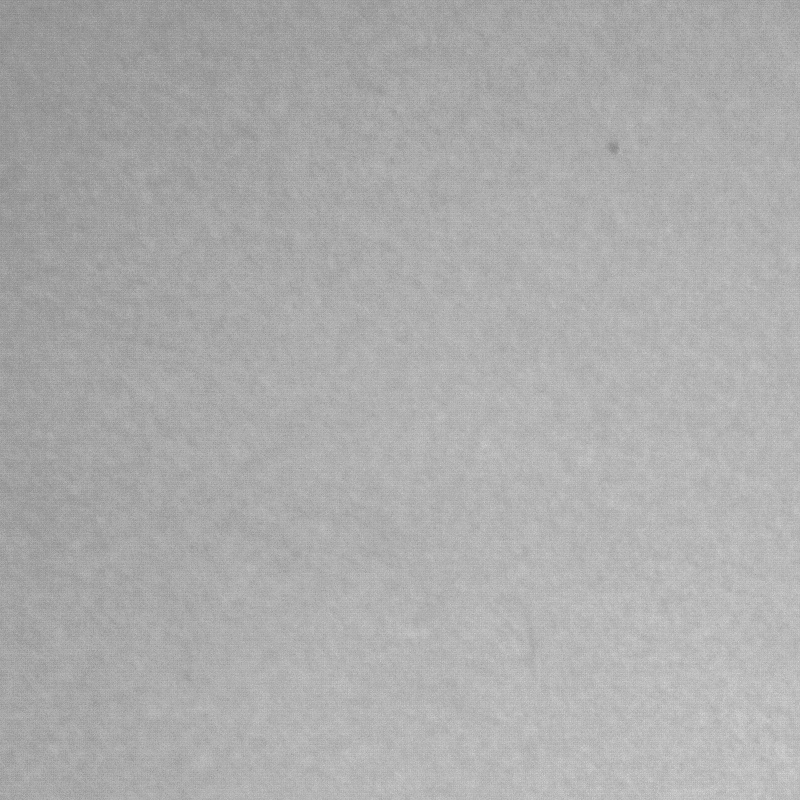defect: (602, 138, 626, 161)
